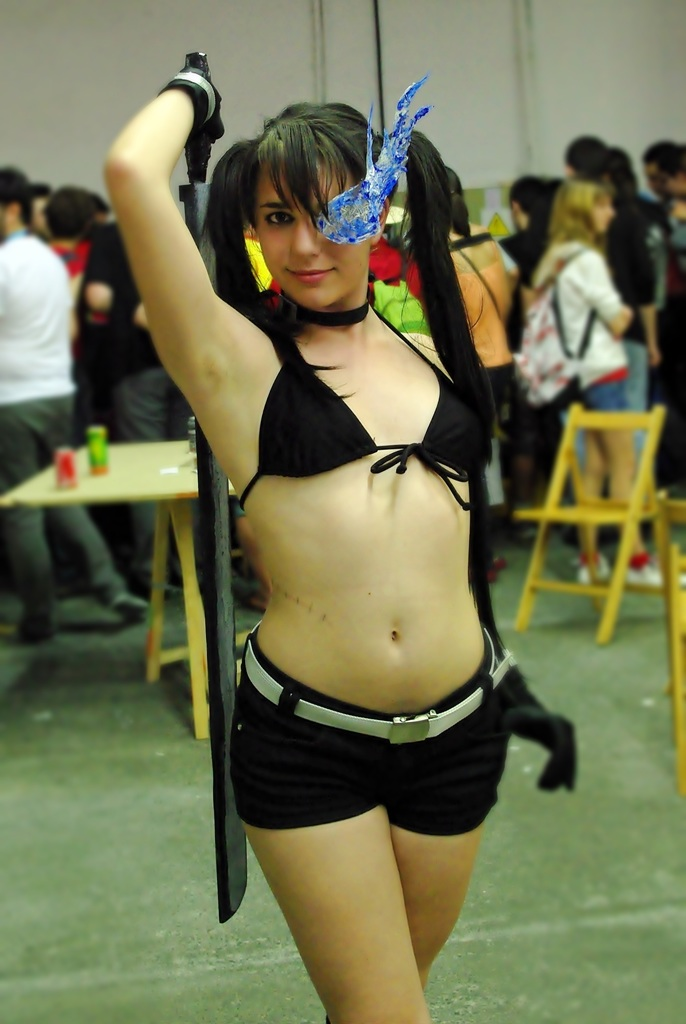Human_hand: (504, 680, 576, 792), (170, 65, 227, 141)
